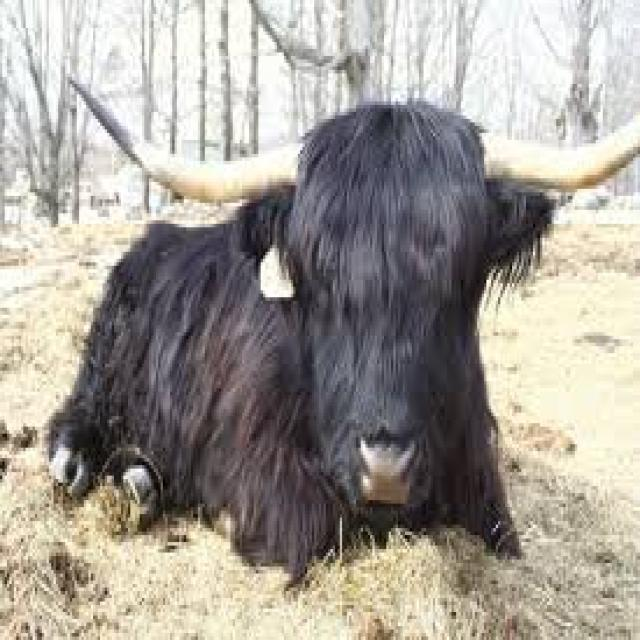Ox: (40, 51, 640, 566)
